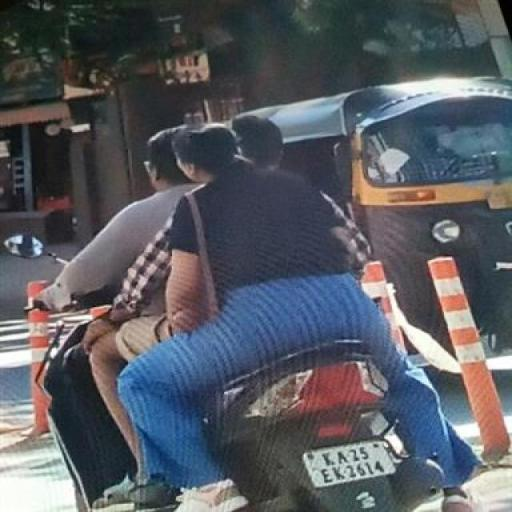tripple riding: (28, 107, 414, 335)
